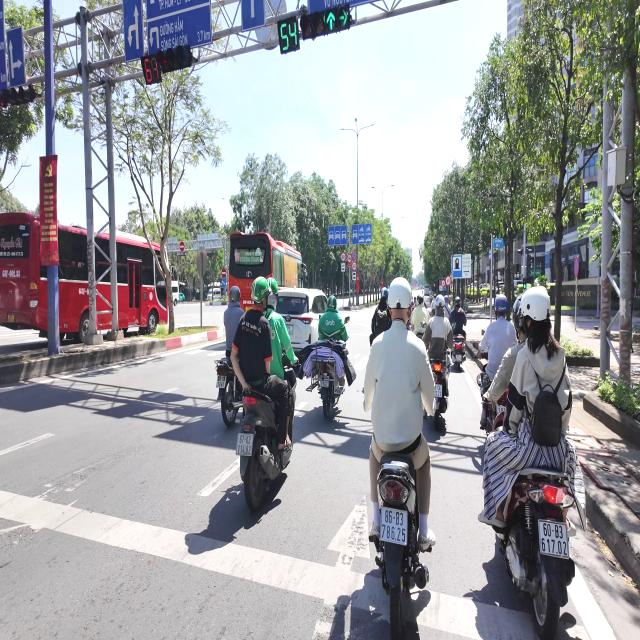car: (270, 288, 327, 351)
motorcycle: (496, 469, 585, 639), (372, 455, 428, 639), (237, 358, 296, 511), (305, 338, 357, 412), (477, 366, 507, 434), (217, 358, 242, 426), (430, 359, 448, 428), (451, 336, 465, 371)
